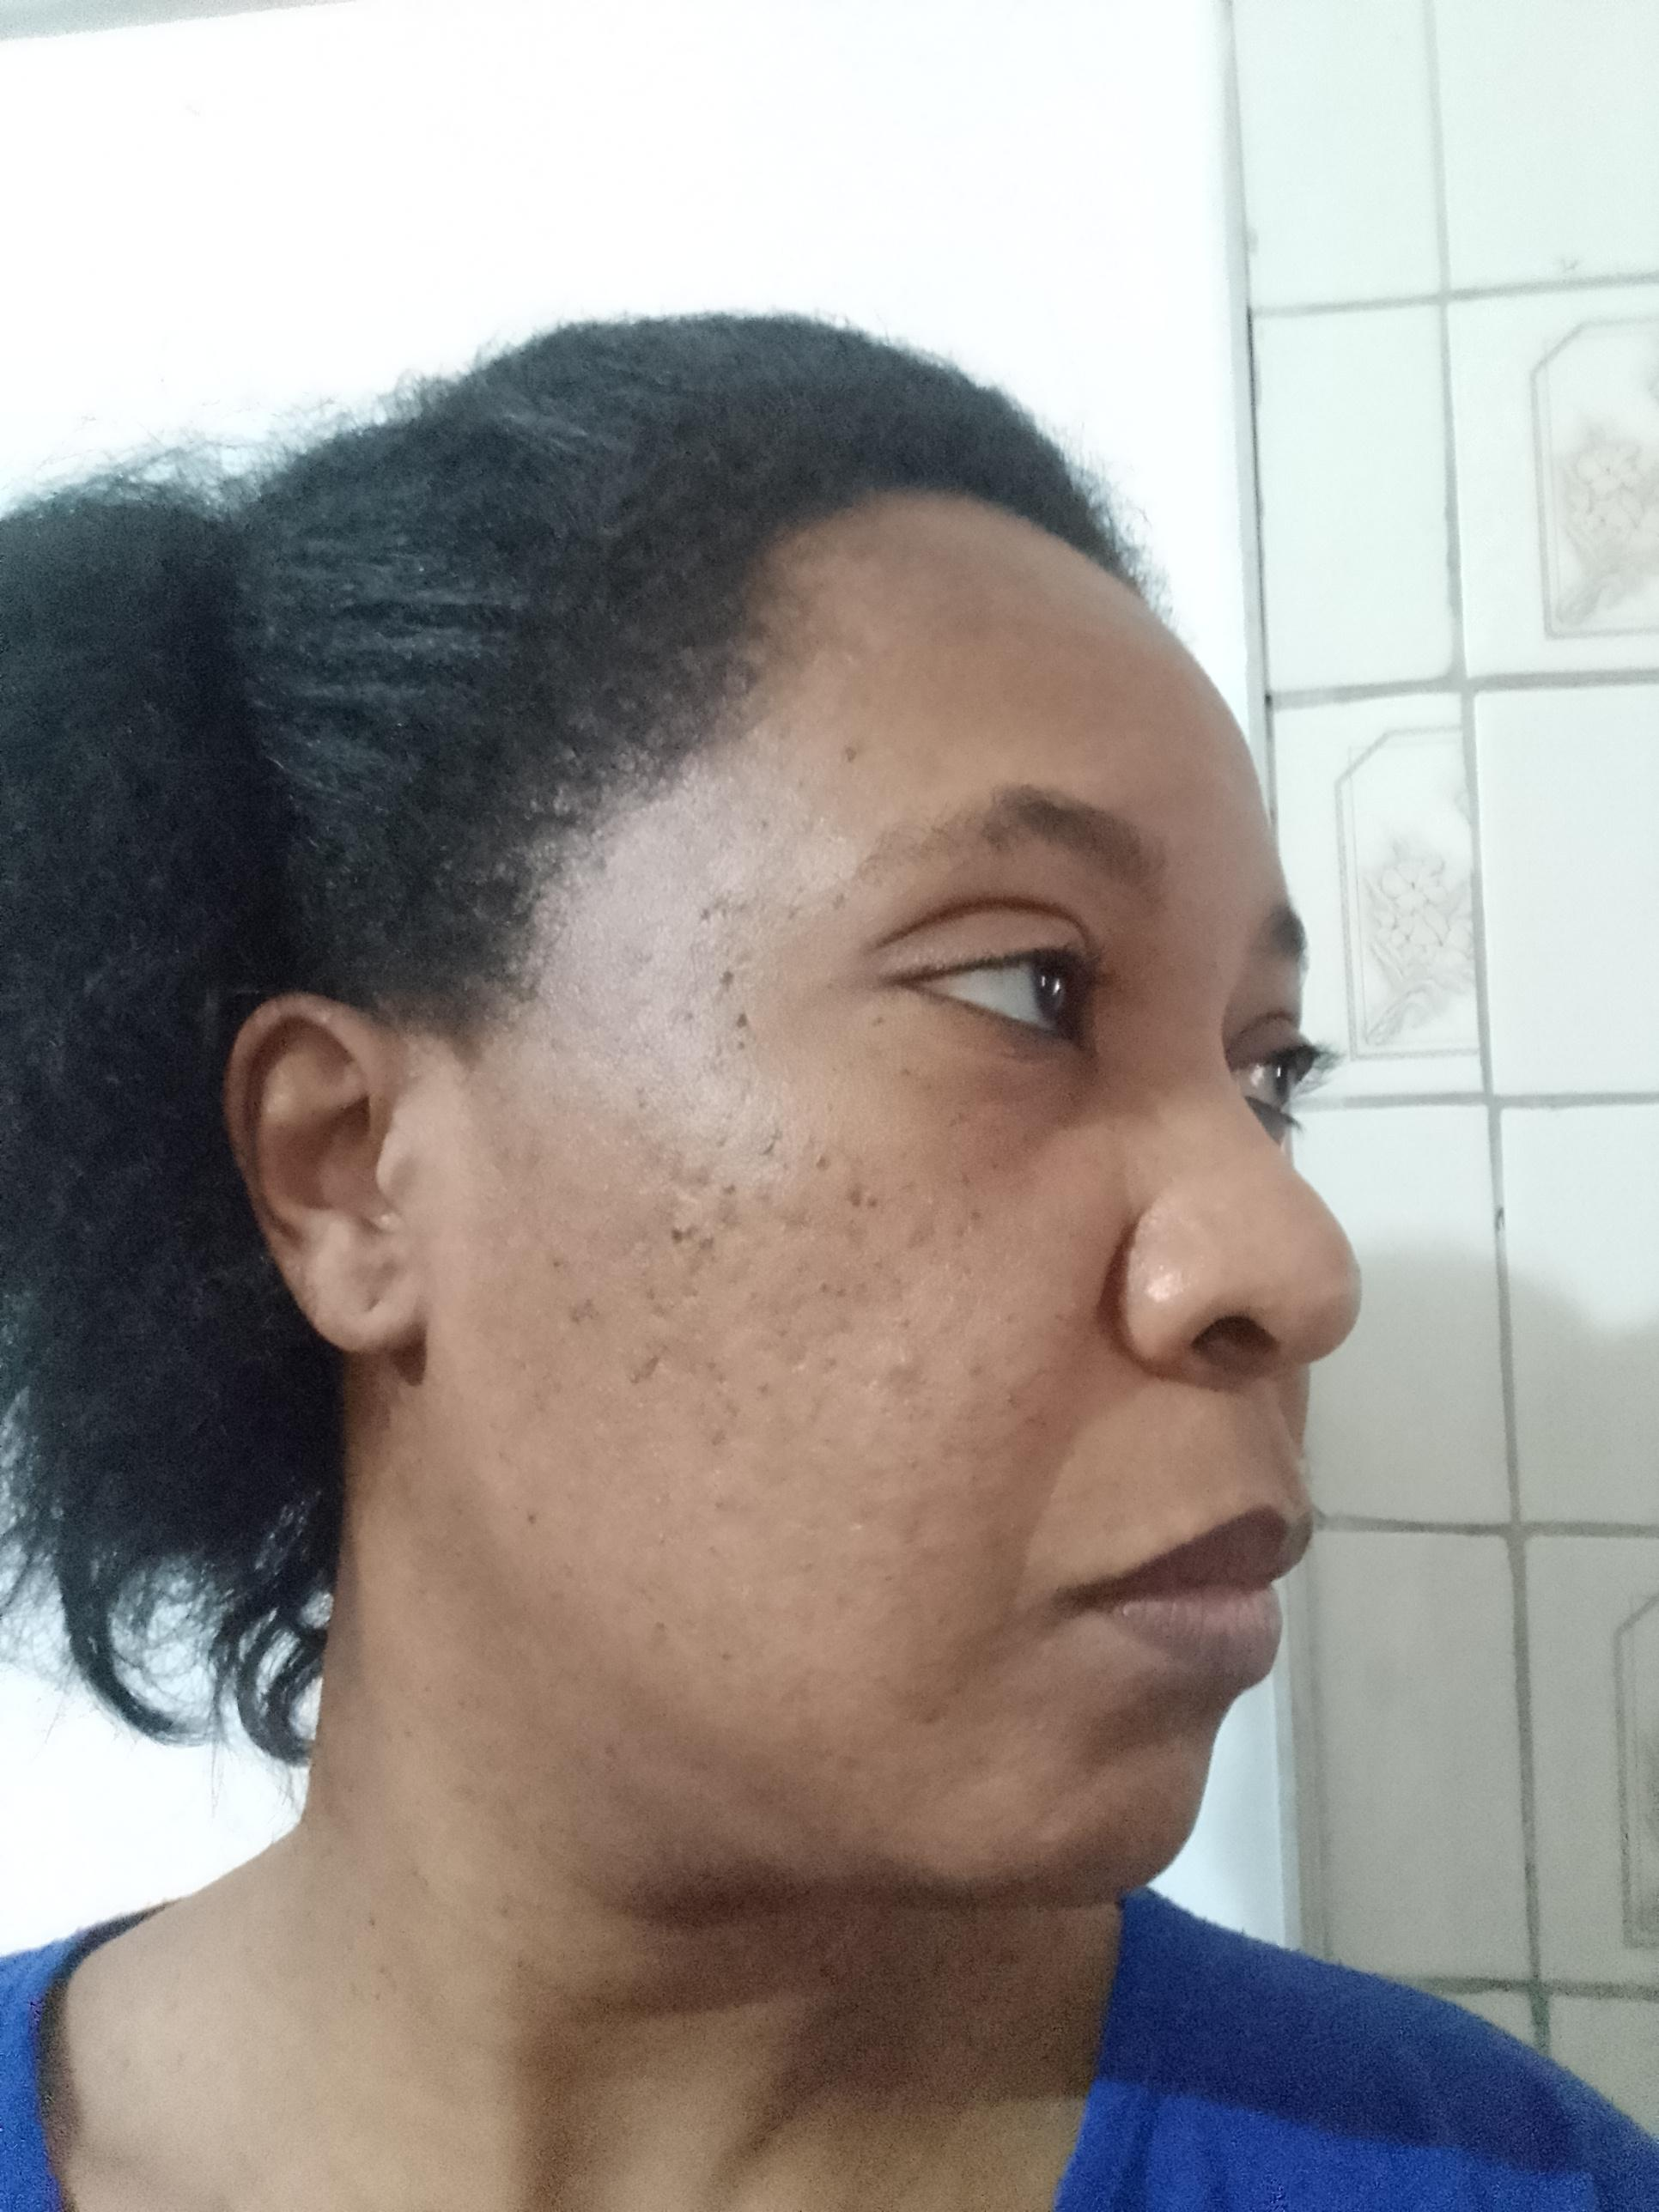Acne: (864, 1372, 955, 1420), (1000, 1386, 1056, 1451), (622, 1066, 669, 1118), (626, 1348, 674, 1397), (692, 1400, 744, 1444), (836, 725, 882, 772), (671, 1217, 725, 1256), (753, 806, 788, 860), (758, 1367, 800, 1411), (634, 1278, 674, 1324), (957, 1165, 983, 1228), (884, 1305, 932, 1338), (666, 1000, 709, 1035), (563, 1294, 603, 1331), (847, 1170, 877, 1219), (587, 1733, 620, 1775), (992, 1296, 1033, 1329), (929, 1608, 965, 1644), (685, 906, 725, 939), (890, 1343, 924, 1379), (516, 1507, 556, 1533), (796, 1561, 831, 1590), (711, 1174, 748, 1202), (723, 1000, 755, 1031), (809, 1144, 836, 1179), (706, 1346, 732, 1383), (697, 963, 746, 982), (756, 1132, 782, 1167), (958, 1352, 985, 1386), (643, 1615, 674, 1641), (716, 1641, 744, 1669), (819, 1273, 849, 1299), (704, 1536, 730, 1566), (711, 1489, 735, 1517), (650, 1531, 669, 1554), (864, 1019, 894, 1033), (549, 1254, 570, 1271), (897, 1068, 918, 1083)
Englarged-Pores: (836, 1437, 941, 1531), (643, 1162, 725, 1237), (800, 1334, 856, 1414), (753, 1303, 819, 1360), (889, 1677, 957, 1731), (906, 1230, 978, 1280), (664, 1254, 721, 1305), (723, 1071, 756, 1153), (626, 1136, 685, 1177), (772, 1200, 819, 1245)
Eyebags: (983, 1061, 1138, 1172)
Wrinkles: (1016, 1465, 1084, 1623), (1053, 1716, 1114, 1815)
